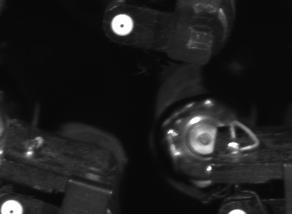fiber: (107, 12, 140, 38), (1, 191, 28, 214)
